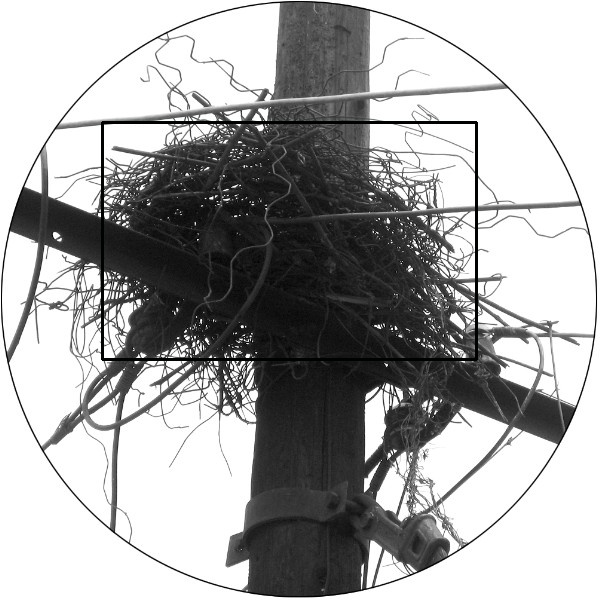bird-nest: (102, 122, 476, 359)
